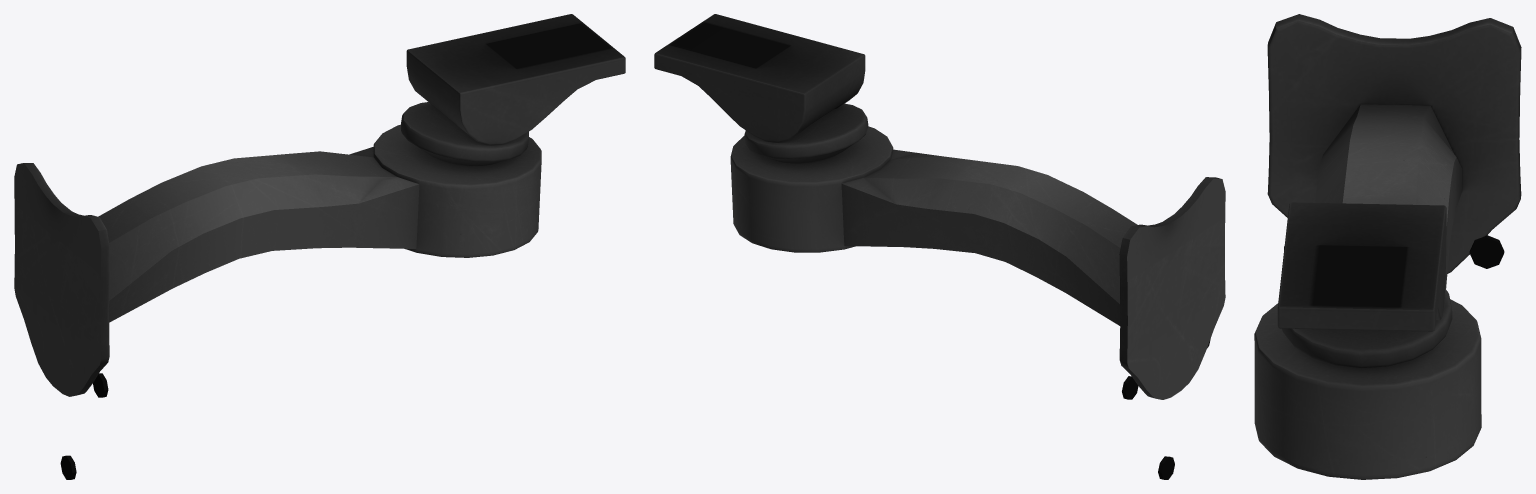
Rendered from Base_Cam.obj.
The picture shows the model from 3 angles, left to right: view 1: azimuth 30°, elevation 25°; view 2: azimuth 150°, elevation 25°; view 3: azimuth 270°, elevation 25°; orthographic projection. The views are drawn at different scales.
Parts seen in each view (by area): view 1: Base_Cam:polySurface3438polySurface3276; view 2: Base_Cam:polySurface3438polySurface3276; view 3: Base_Cam:polySurface3438polySurface3276.
Boxes of the visible parts, box(x1,y1,x2,y2) form: Base_Cam:polySurface3438polySurface3276: box(14, 14, 625, 479); Base_Cam:polySurface3438polySurface3276: box(654, 14, 1225, 479); Base_Cam:polySurface3438polySurface3276: box(1254, 14, 1521, 479).
Bounding box in the file's own units: 0.8692 × 0.5118 × 0.2822.
Materials: 2 (1 with a texture image).
